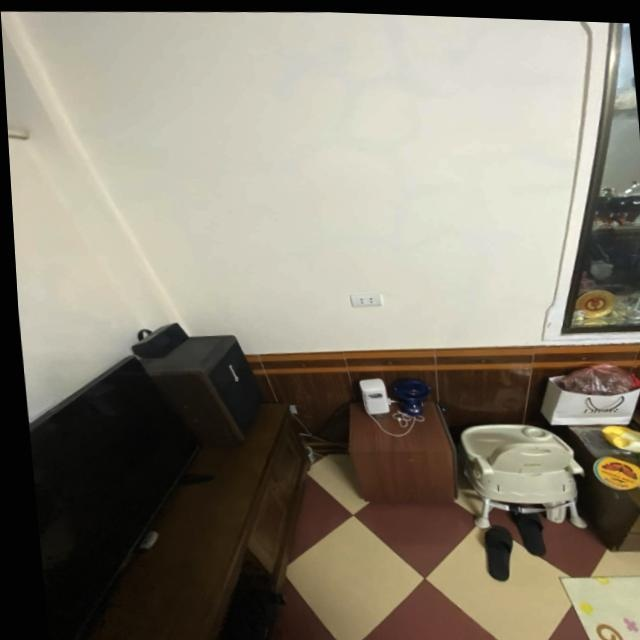outlet: (349, 292, 382, 308)
